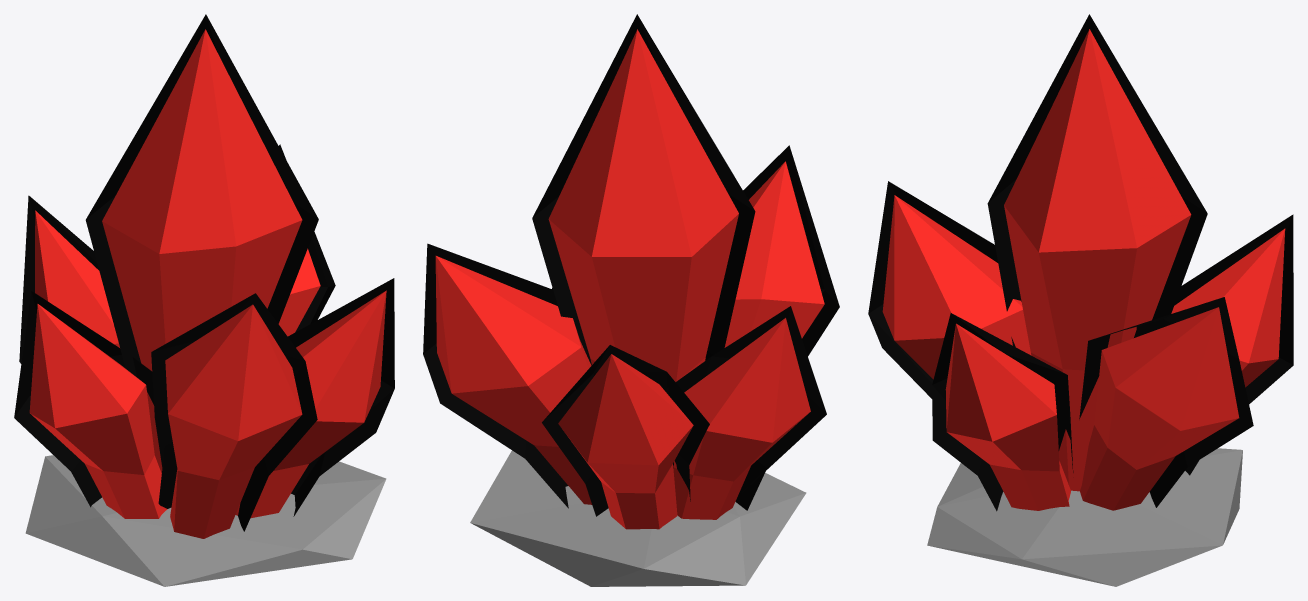
The model's file is Crystal1.glb.
3 renders of one model, left to right at view 1: azimuth 30°, elevation 25°; view 2: azimuth 150°, elevation 25°; view 3: azimuth 270°, elevation 25°, orthographic.
Parts seen in each view (by area): view 1: Circle.011, Circle.010, Icosphere.017; view 2: Circle.011, Circle.010, Icosphere.017; view 3: Circle.011, Circle.010, Icosphere.017.
Boxes of the visible parts, <box> form: Circle.011: <box>29,29,386,538</box>; Circle.010: <box>14,14,394,531</box>; Icosphere.017: <box>25,455,386,586</box>; Circle.011: <box>435,29,824,529</box>; Circle.010: <box>423,14,839,516</box>; Icosphere.017: <box>470,450,806,586</box>; Circle.011: <box>882,29,1285,510</box>; Circle.010: <box>868,14,1293,511</box>; Icosphere.017: <box>927,448,1242,586</box>.
Bounding box in the file's own units: 0.0591 × 0.0912 × 0.0638.
